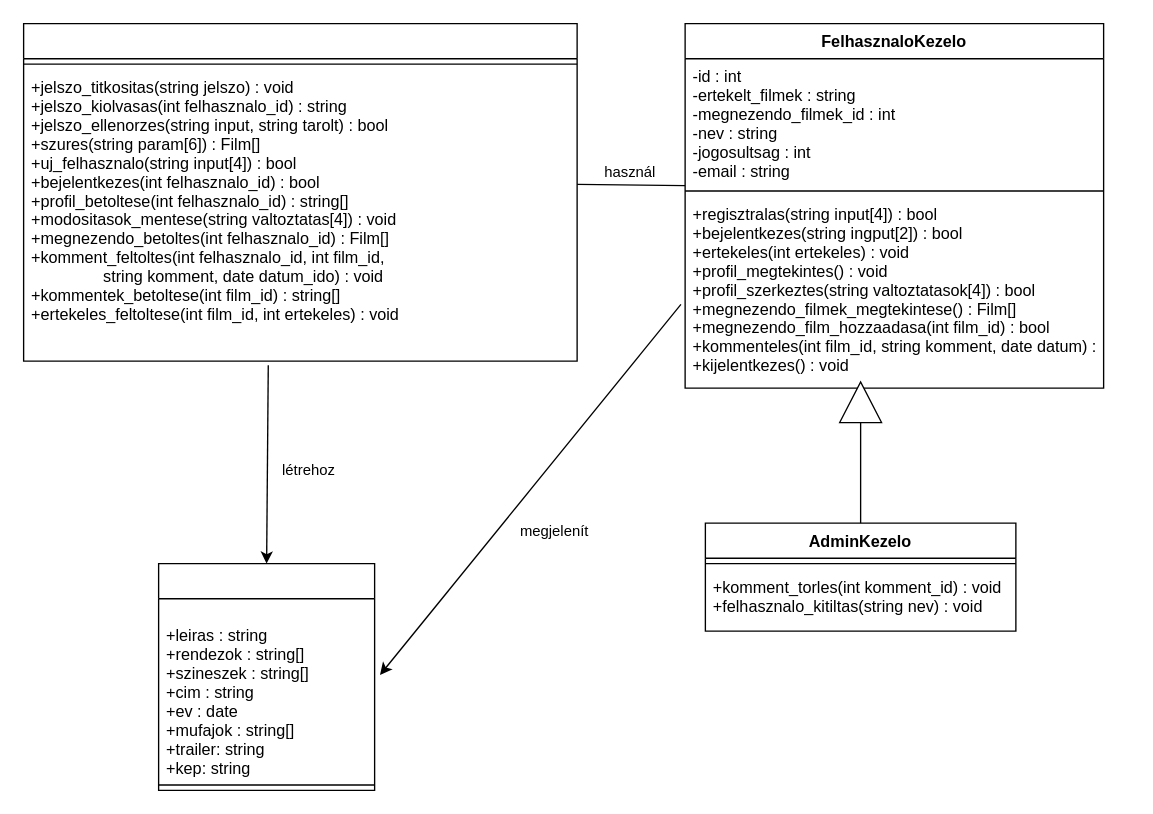
This 1153x814 diagram has some shape labels left out. The box of each missing label's shape, as (x1, y1, x2, y2) in pixels:
AdatbazisKezelo: (22, 22, 577, 361)
Film: (157, 562, 375, 790)
